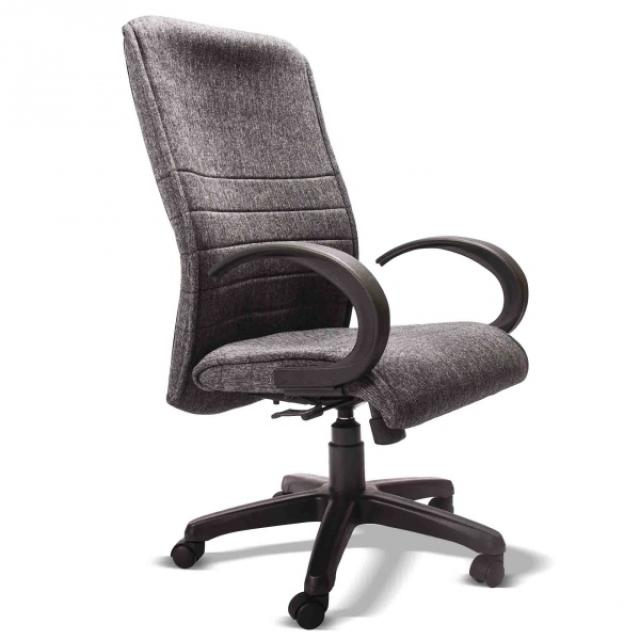chair: (48, 3, 553, 640)
